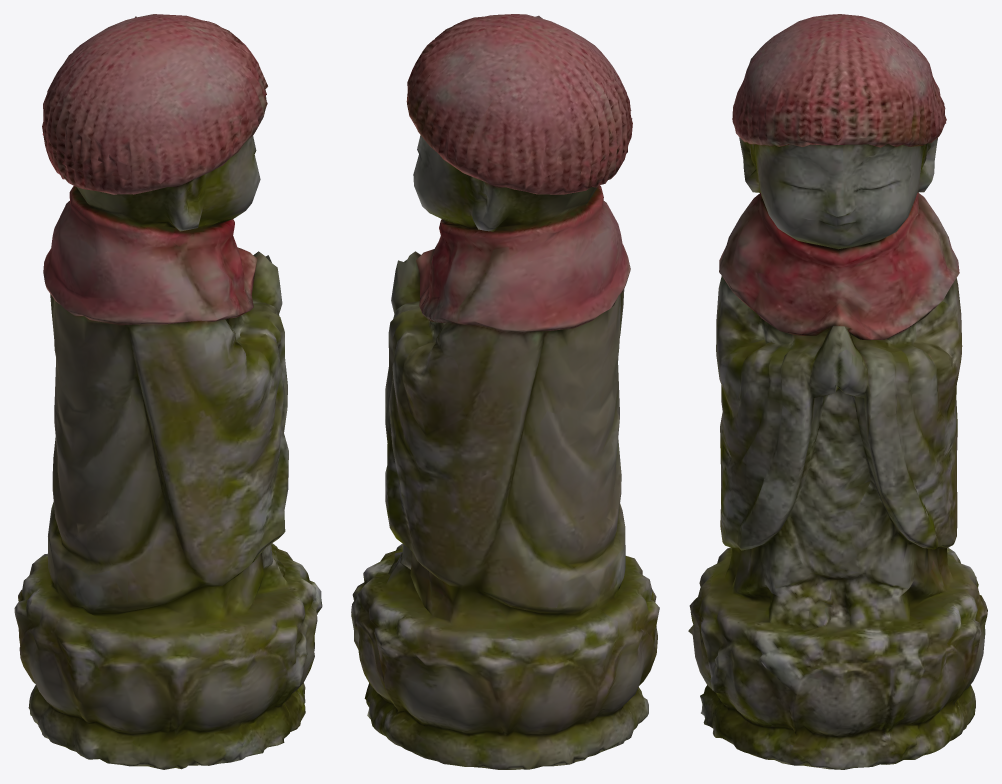
Rendered from jizo.glb.
3 renders of one model, left to right at view 1: azimuth 30°, elevation 25°; view 2: azimuth 150°, elevation 25°; view 3: azimuth 270°, elevation 25°, orthographic.
Parts seen in each view (by area): view 1: tripo_node_68f0af43-a800-4238-94db-7dc9c27d8aec; view 2: tripo_node_68f0af43-a800-4238-94db-7dc9c27d8aec; view 3: tripo_node_68f0af43-a800-4238-94db-7dc9c27d8aec.
Part boxes in pixels (<box>): tripo_node_68f0af43-a800-4238-94db-7dc9c27d8aec: <box>14,14,322,769</box>; tripo_node_68f0af43-a800-4238-94db-7dc9c27d8aec: <box>351,14,659,769</box>; tripo_node_68f0af43-a800-4238-94db-7dc9c27d8aec: <box>688,14,987,769</box>.
Size of the model in its own units: 0.4001 by 1 by 0.3987.
1 material, 1 textured.
